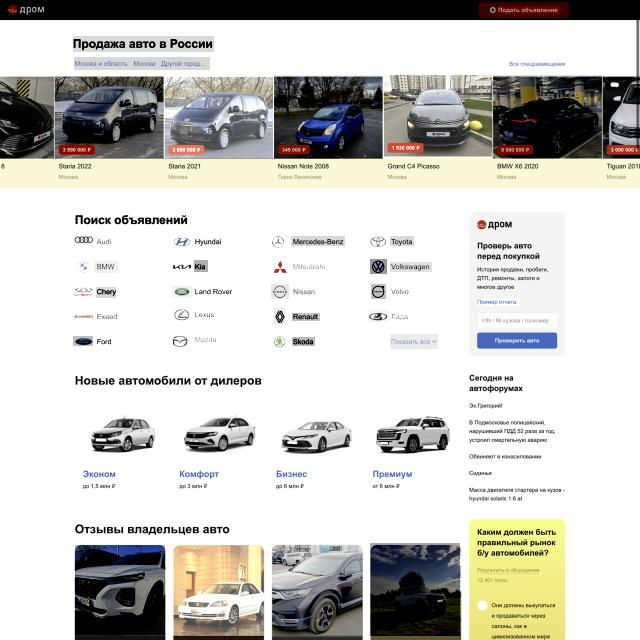CheckBox: (479, 1, 569, 19), (390, 334, 438, 349), (476, 298, 520, 306)
alert: (440, 5, 462, 15)
bag: (0, 0, 639, 20)
breadcrumbs: (74, 36, 215, 52), (73, 211, 189, 229)
carousel: (488, 5, 497, 14)
copy: (383, 76, 492, 160), (54, 76, 164, 159), (164, 75, 274, 158), (493, 75, 603, 158), (274, 75, 382, 159), (172, 544, 264, 636), (272, 544, 362, 637), (370, 543, 460, 636), (75, 545, 165, 635)
data feed: (291, 236, 345, 246), (498, 6, 560, 14), (576, 6, 633, 14), (390, 262, 432, 272), (193, 237, 224, 248), (293, 262, 327, 272), (194, 288, 234, 296), (94, 261, 118, 273), (292, 287, 317, 297), (193, 338, 217, 348), (390, 236, 414, 246), (390, 311, 409, 323), (292, 313, 320, 321), (96, 287, 116, 298), (97, 312, 119, 322), (96, 335, 114, 347), (194, 312, 215, 322), (292, 337, 315, 346), (390, 287, 412, 296), (95, 237, 114, 247), (194, 260, 208, 272)
date picker: (5, 2, 46, 17), (271, 258, 290, 276), (72, 285, 94, 298), (172, 310, 192, 324), (271, 284, 289, 299), (369, 235, 388, 249), (73, 235, 93, 248), (370, 259, 387, 274), (174, 334, 192, 348), (172, 236, 192, 248), (272, 234, 288, 249), (368, 310, 388, 322), (75, 259, 92, 273), (371, 284, 386, 299), (272, 334, 286, 350), (172, 286, 192, 297), (73, 336, 93, 346), (172, 262, 193, 271), (73, 312, 96, 320), (274, 308, 285, 324)
decoration: (50, 2, 476, 18), (74, 57, 210, 70)
